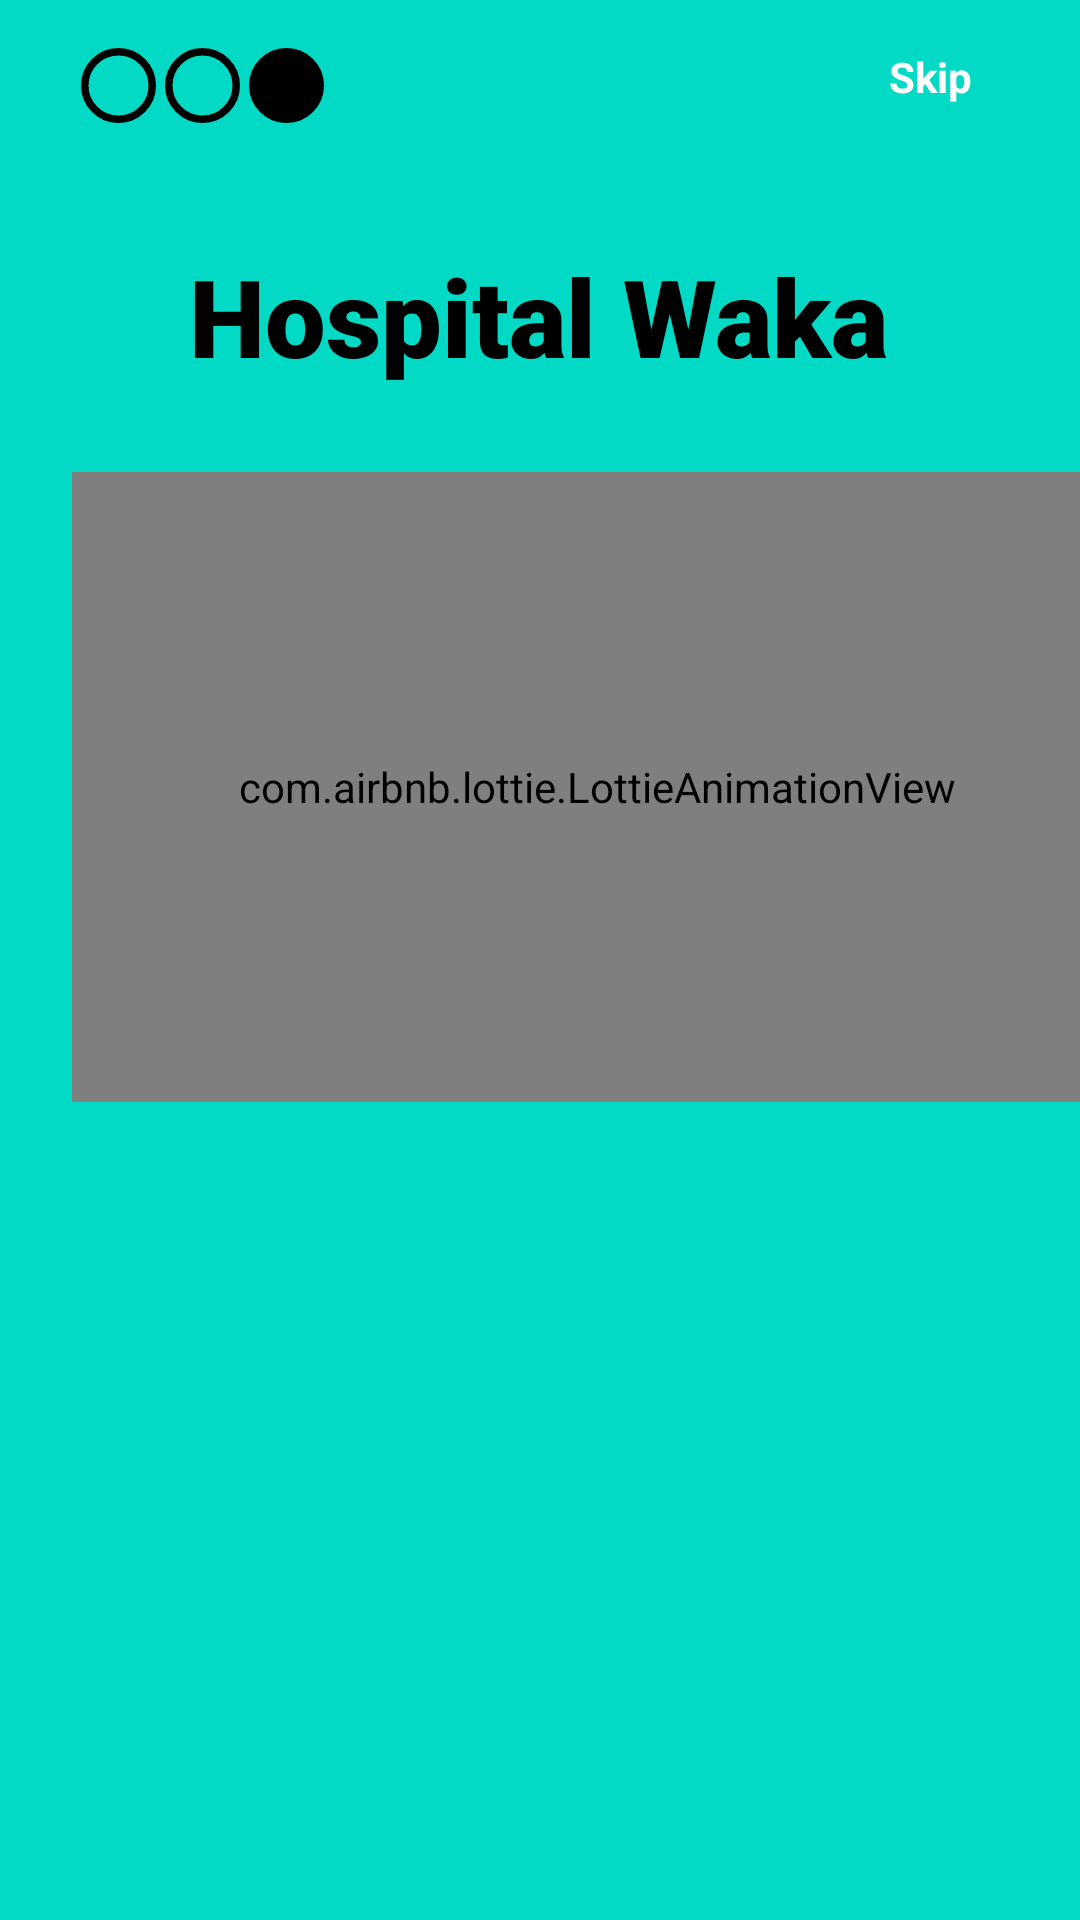

Screen size 1080*1920. Icon name, then its center in pixels as point (x, y):
circle: point (286, 85)
